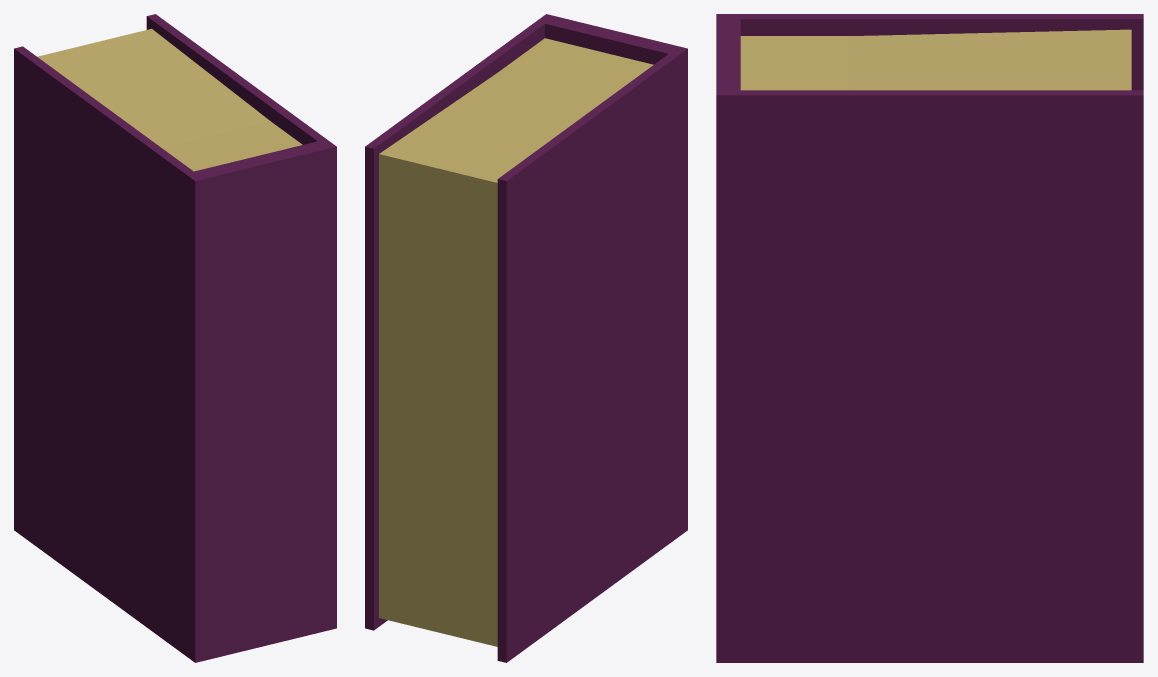
Rendered from CPI441_Fur_BookSingular_Purple.fbx.
The picture shows the model from 3 angles, left to right: view 1: azimuth 30°, elevation 25°; view 2: azimuth 150°, elevation 25°; view 3: azimuth 270°, elevation 25°; orthographic projection. The views are drawn at different scales.
Visible parts, largest first — view 1: Cube; view 2: Cube; view 3: Cube.
Boxes of the visible parts, x1,y1,x2,y2 form: Cube: (14, 14, 336, 662); Cube: (365, 14, 687, 662); Cube: (716, 14, 1143, 662).
Size of the model in its own units: 49.65 by 161 by 110.
